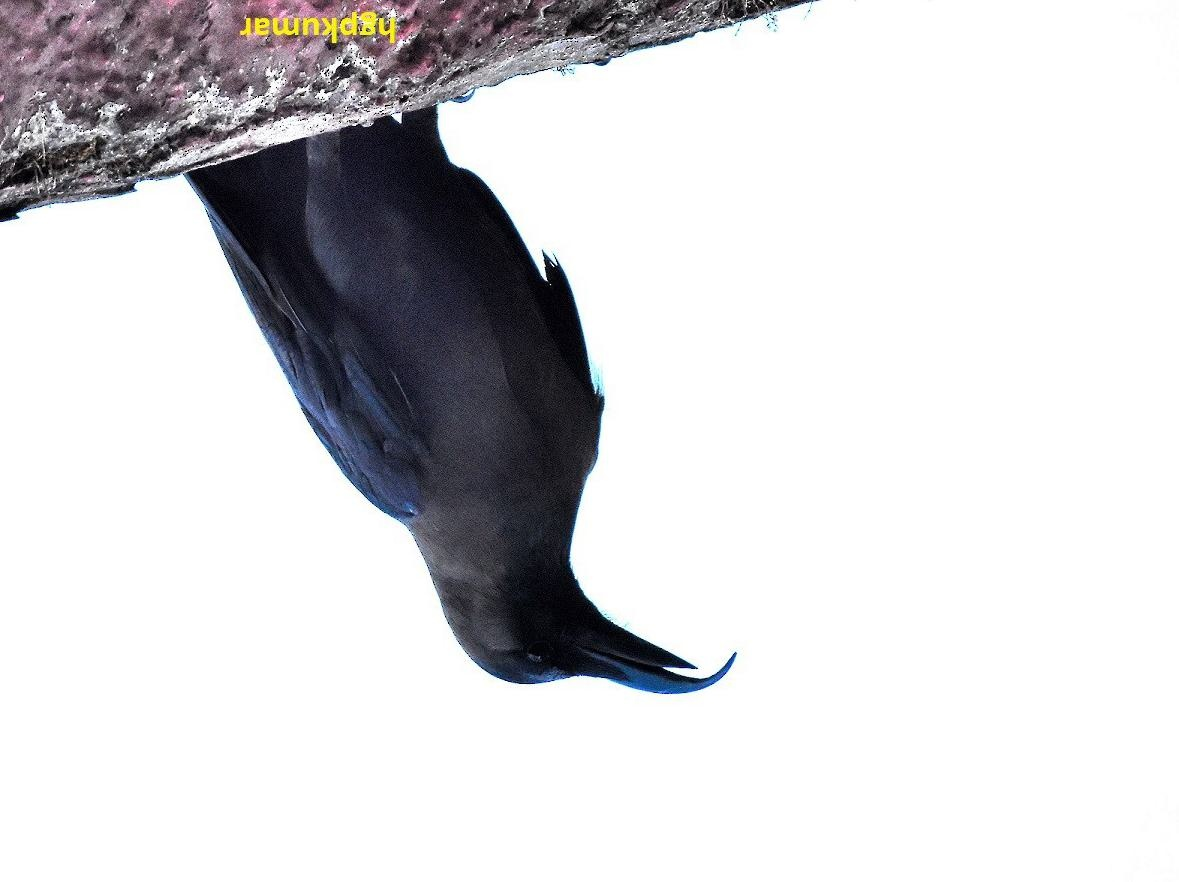crow: (157, 102, 751, 715)
